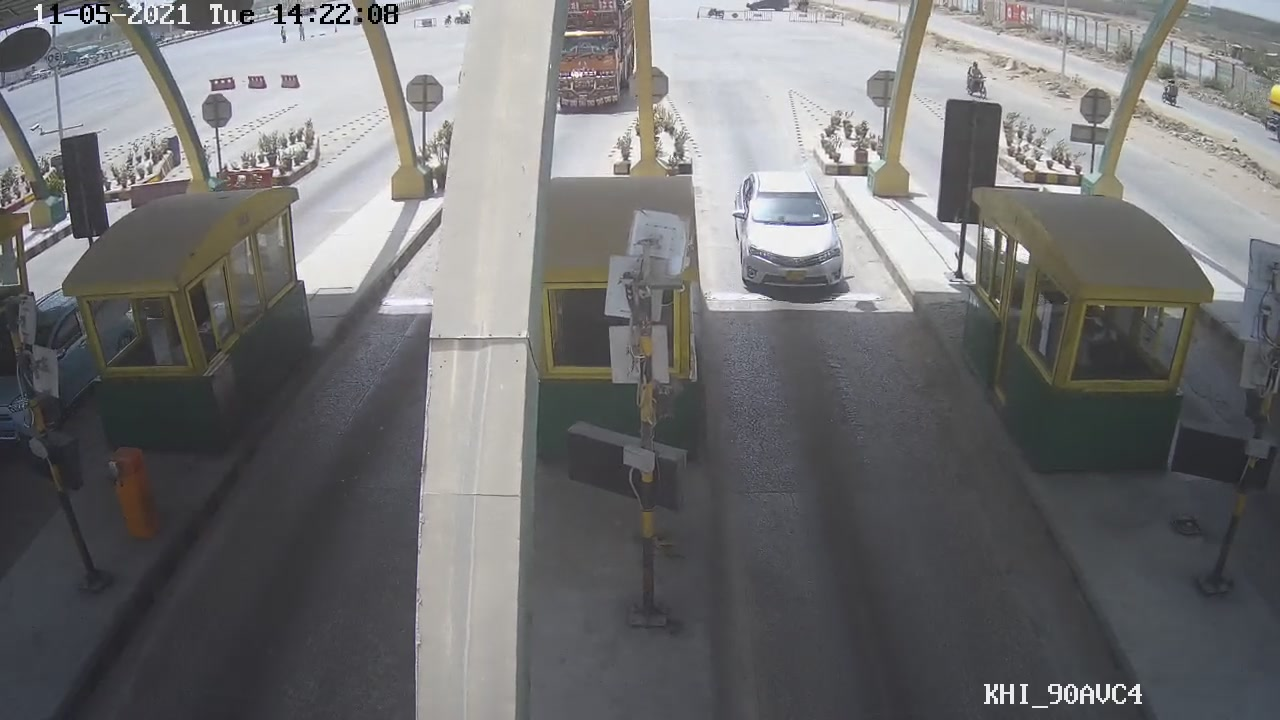F1: (728, 163, 854, 301)
